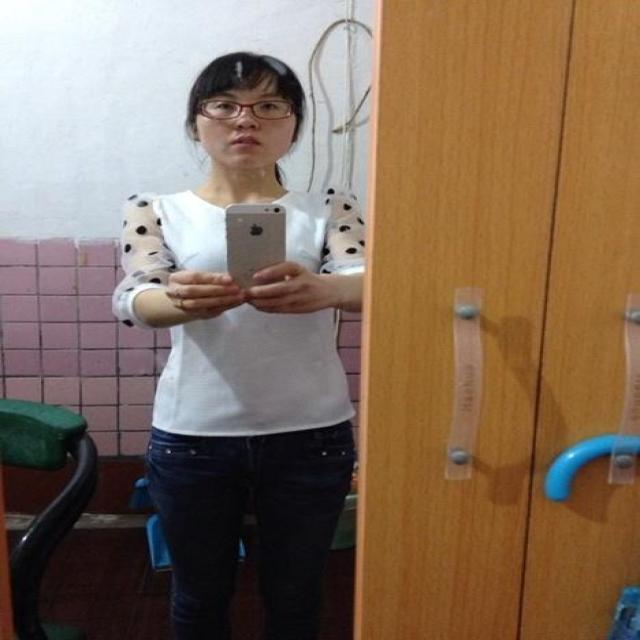short sleeve top: (123, 186, 384, 436)
trousers: (157, 403, 346, 638)
